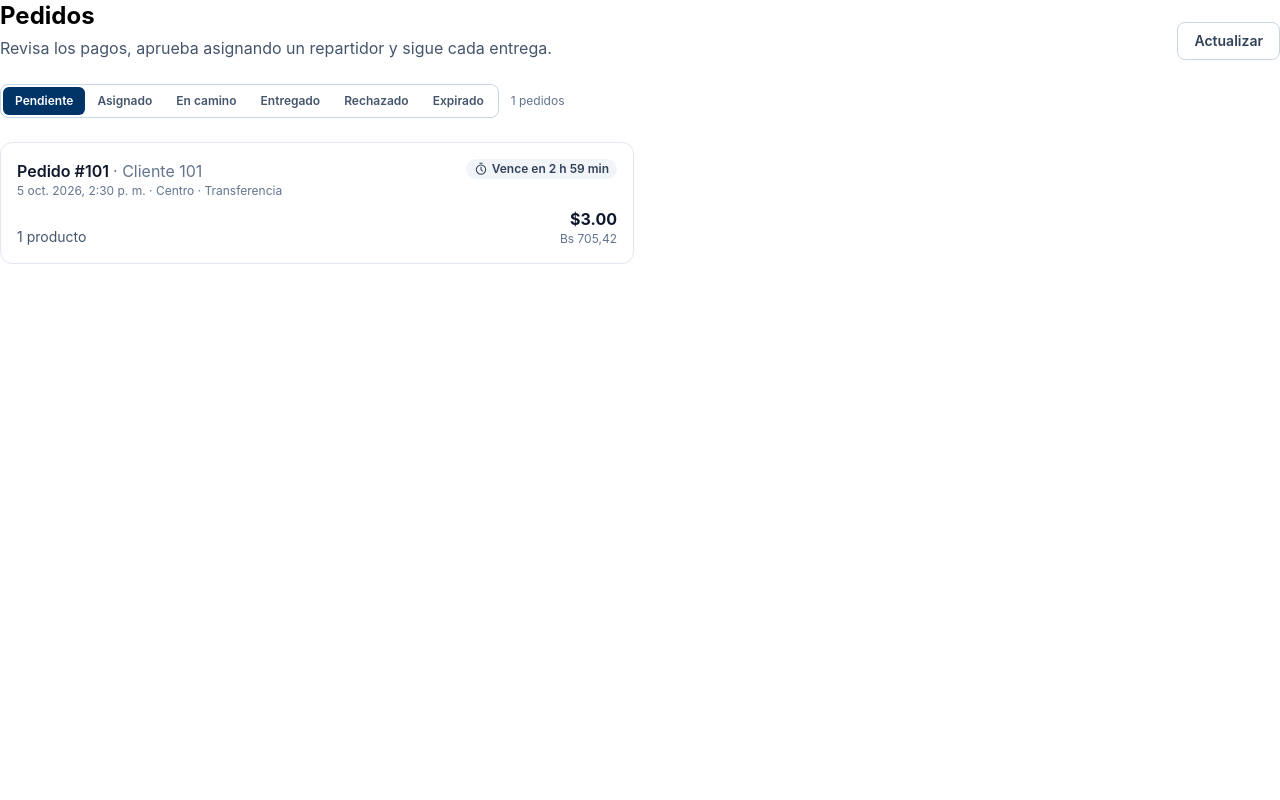
Test: Pedidos: detalle › al tocar una tarjeta abre el detalle del pedido
What coordinates should you click on to do the following:
click the button "Pedido #101"
I would click on:
 (51, 171)
Its box is [0,142,634,264].
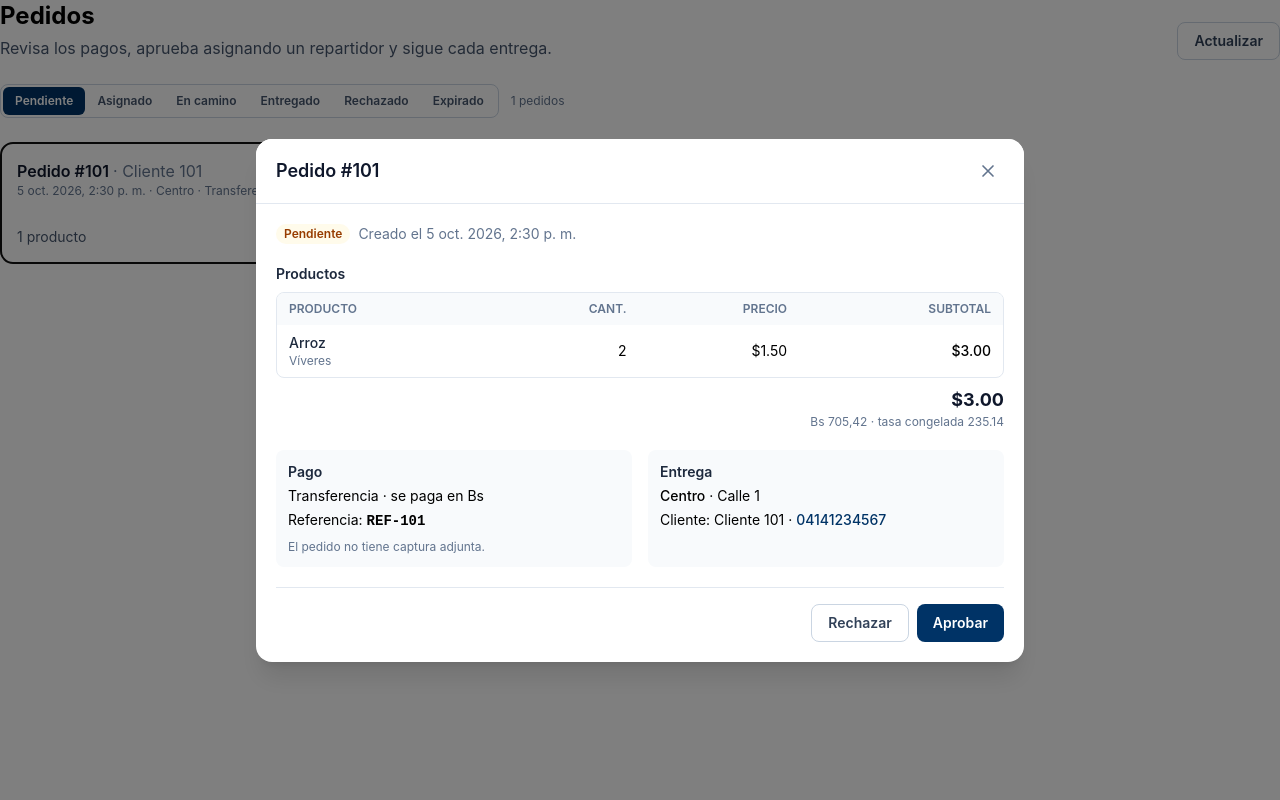
Expected: the heading "Pedido #101" is shown, [276,156,380,184]
Expected: the text "REF-101" is shown, [367,512,425,528]
Expected: the button "Aprobar" is shown, [917,604,1004,642]
